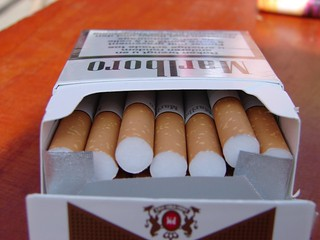cigarette: (21, 24, 317, 239), (206, 89, 261, 168), (237, 90, 294, 159), (183, 90, 227, 177), (84, 90, 126, 180), (114, 91, 156, 174), (150, 90, 188, 177), (47, 92, 100, 153)
